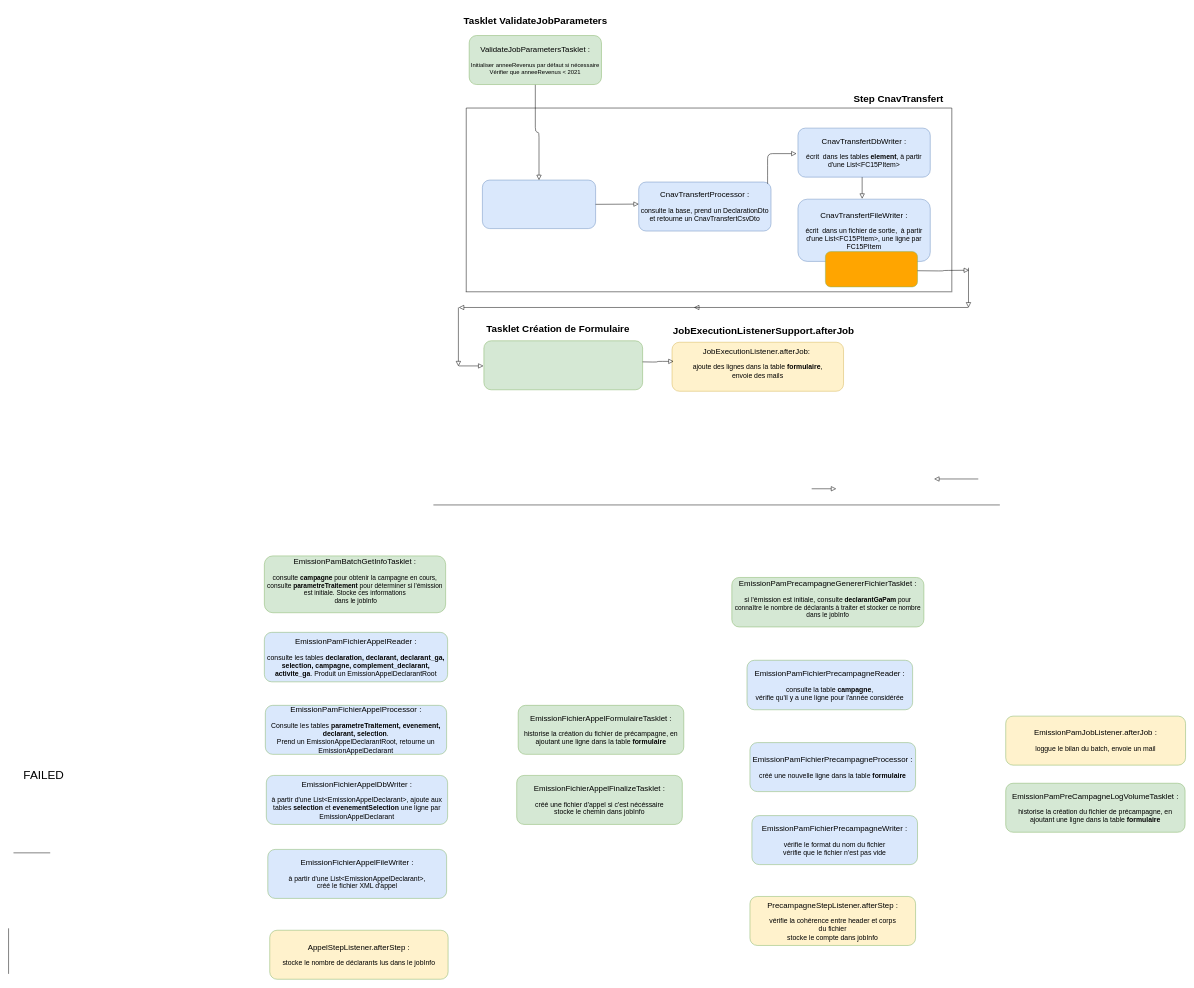
The diagram is 1194 pixels wide and 988 high, and some of its shapes have lost their labels. The box of each missing label's shape, as (x1, y1, x2, y2) in pixels:
CnavCsvCallBackWriter: met un header & footer dans le fichier de sortie: (825, 251, 918, 287)
CnavTransfertReader : consulte la base, retourne un DeclarationDto: (482, 180, 596, 229)
CreationFormulaireTasklet : ajoute une ligne dans la table formulaire ,: (483, 340, 643, 390)
